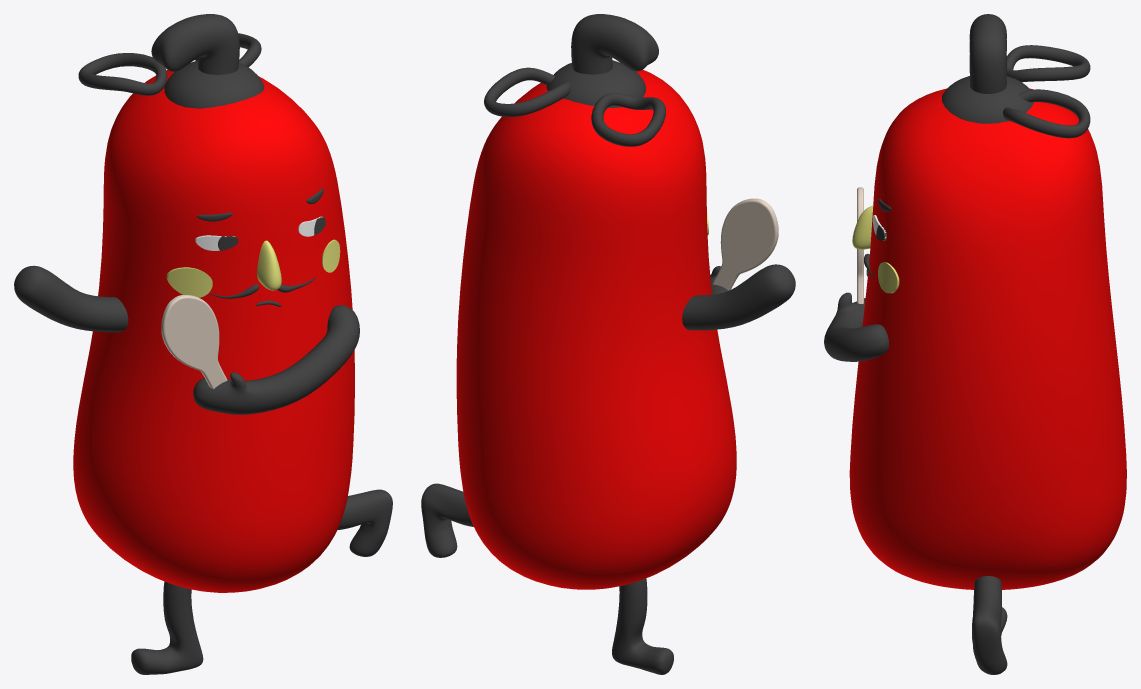
The picture shows the model from 3 angles, left to right: view 1: azimuth 30°, elevation 25°; view 2: azimuth 150°, elevation 25°; view 3: azimuth 270°, elevation 25°; orthographic projection.
Parts seen in each view (by area): view 1: 030_syoutokumentaiko; view 2: 030_syoutokumentaiko; view 3: 030_syoutokumentaiko.
Part boxes in pixels (box(x1,y1,x2,y2)): 030_syoutokumentaiko: box(14, 14, 392, 674); 030_syoutokumentaiko: box(421, 14, 795, 674); 030_syoutokumentaiko: box(824, 14, 1126, 674).
Size of the model in its own units: 0.1125 by 0.1869 by 0.0809.
